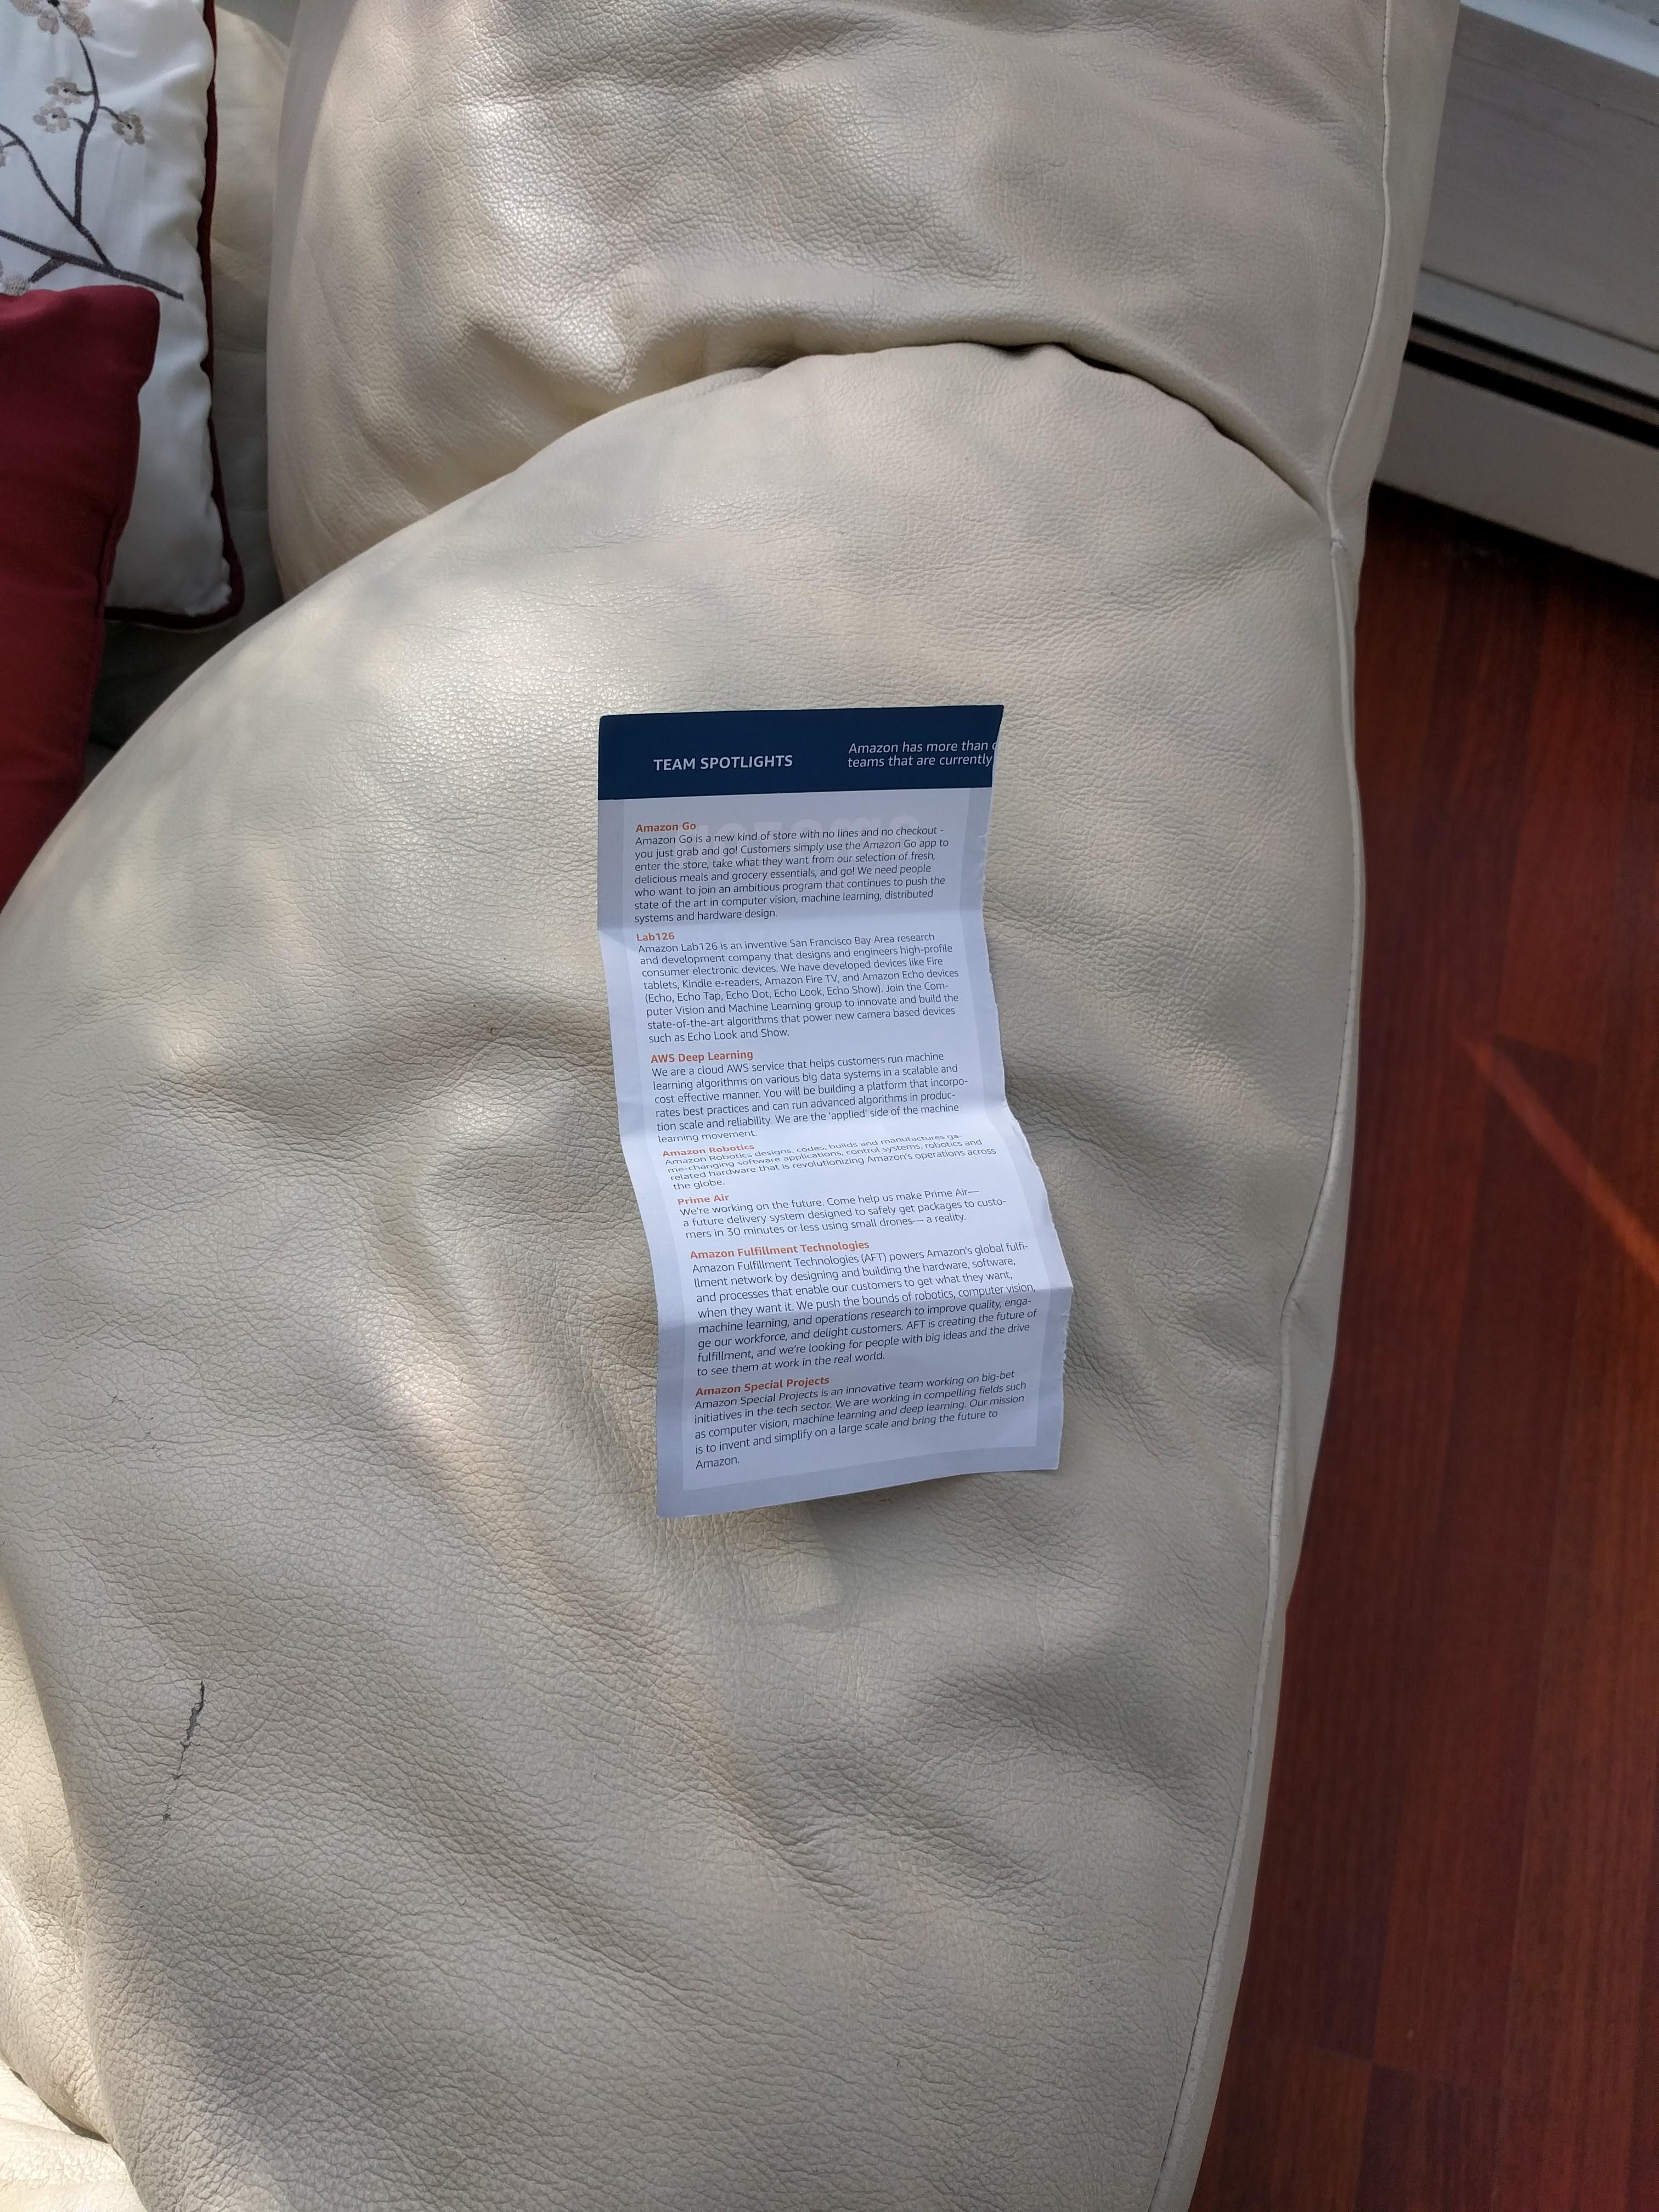paper: (455, 664, 1213, 1602)
